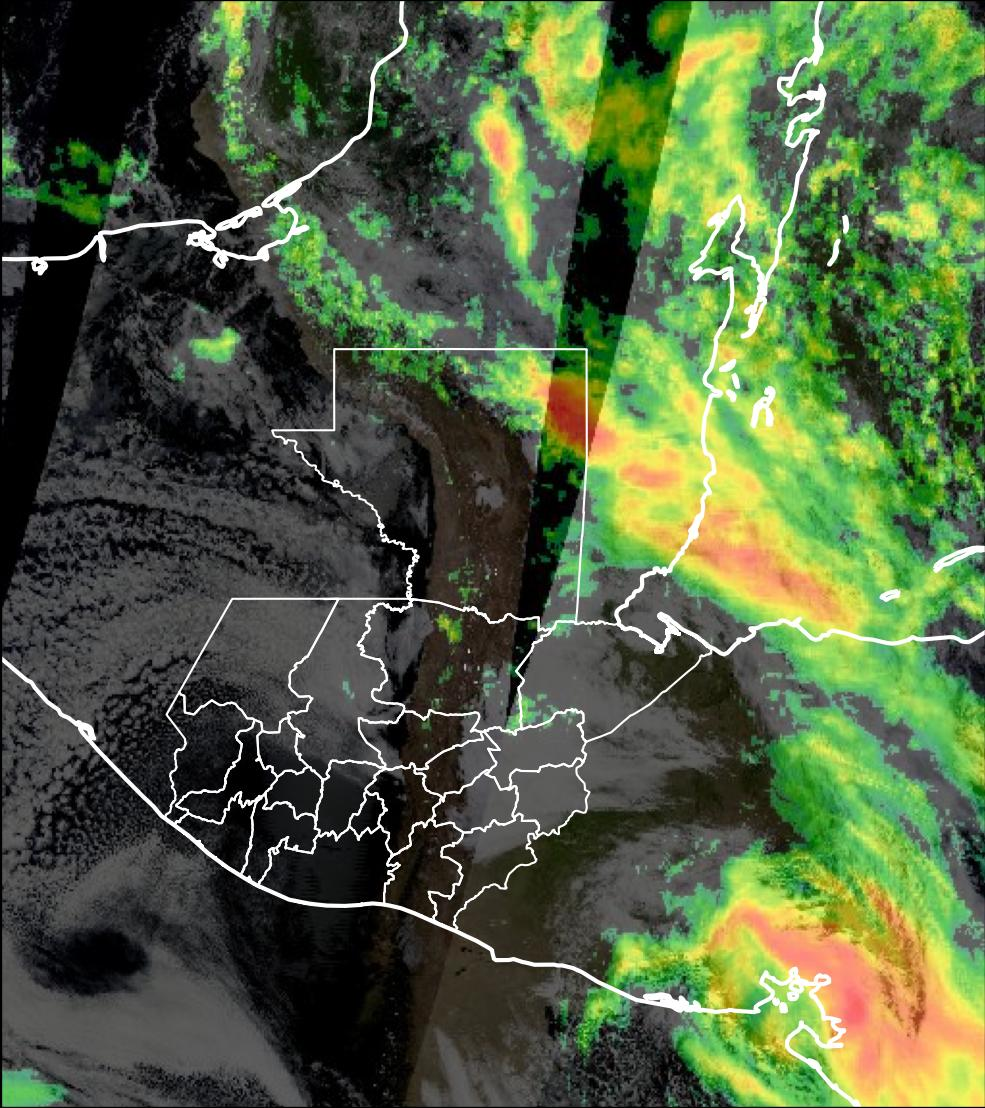precipitacion: (739, 892, 914, 1023), (521, 364, 584, 462)
